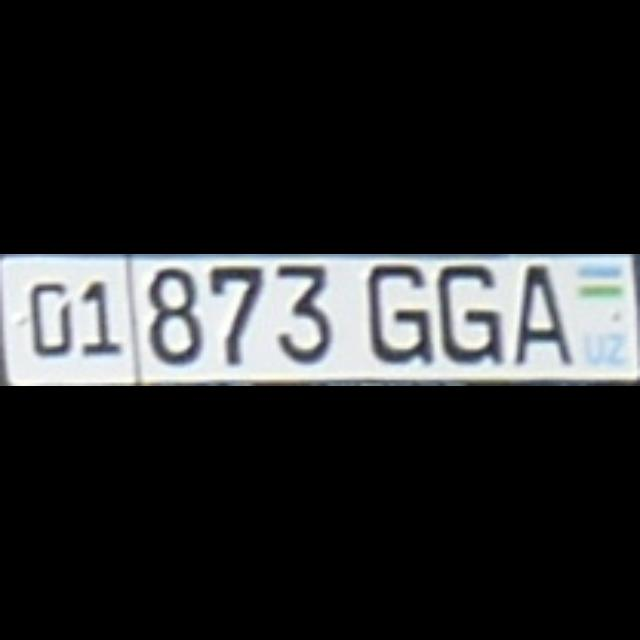0: (28, 279, 68, 353)
1: (80, 279, 116, 353)
3: (270, 260, 326, 362)
7: (206, 263, 258, 365)
8: (145, 266, 197, 362)
A: (511, 260, 569, 362)
G: (362, 260, 428, 358), (434, 260, 496, 358)
